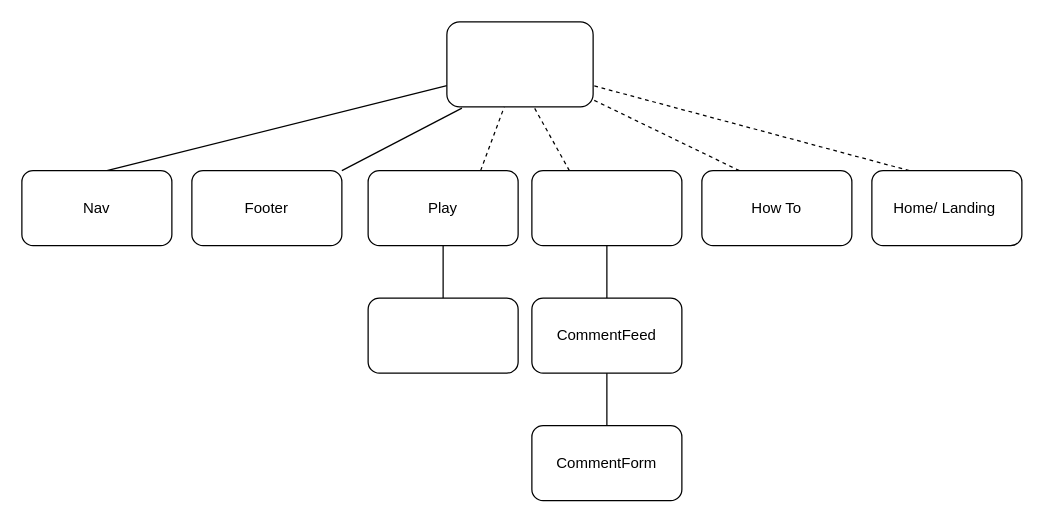
This 1044x523 diagram has some shape labels left out. Each missing label, with the box of its shape:
APP: (446, 21, 593, 107)
Questions: (367, 297, 518, 373)
Results: (531, 169, 682, 246)
